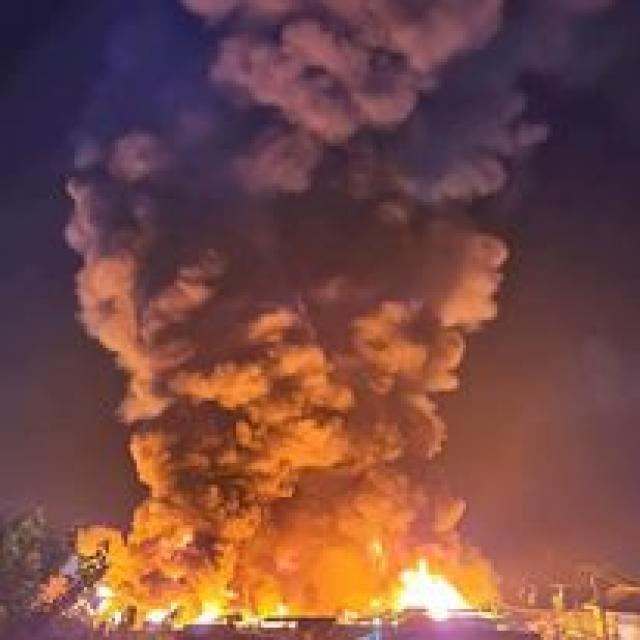Fire: (383, 548, 471, 616), (154, 592, 288, 624)
Smoke: (114, 342, 475, 577), (93, 139, 497, 340), (198, 0, 632, 163)
